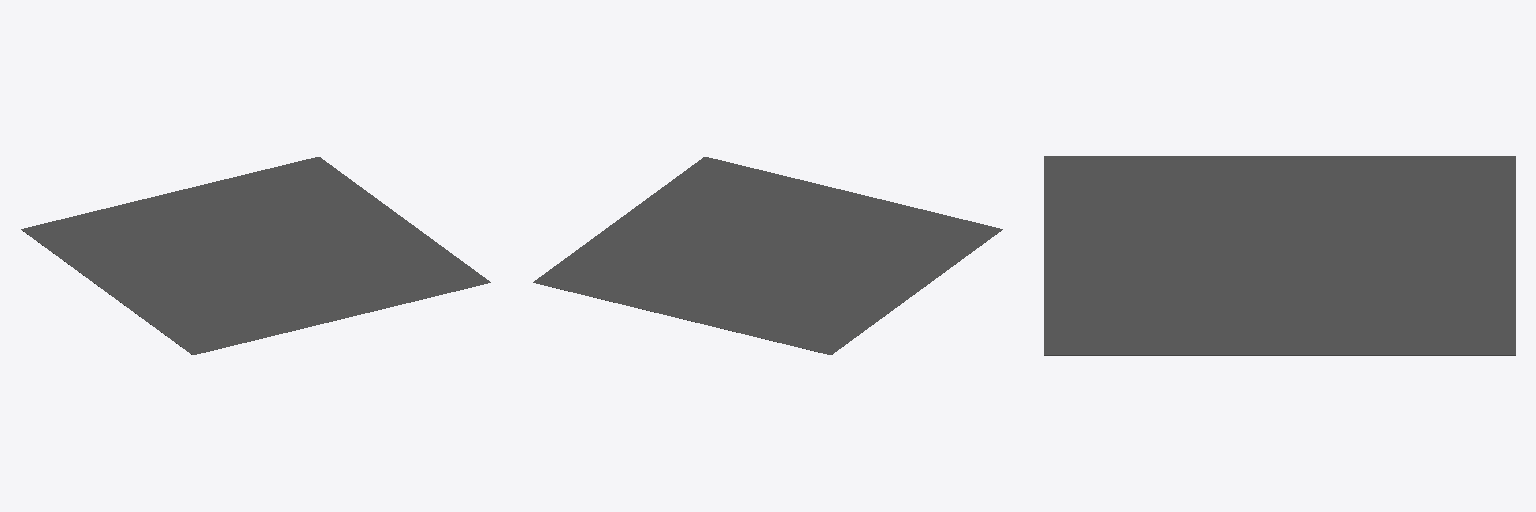
The robot description file, URDF, robot "plane_racing":
<?xml version="1.0"?> 

<!-- Copyright 2023 Shathushan Sivashangaran -->

<!-- Licensed under the Apache License, Version 2.0 (the "License"); -->
<!-- you may not use this file except in compliance with the License. -->
<!-- You may obtain a copy of the License at -->

<!--     http://www.apache.org/licenses/LICENSE-2.0 -->

<!-- Unless required by applicable law or agreed to in writing, software -->
<!-- distributed under the License is distributed on an "AS IS" BASIS, -->
<!-- WITHOUT WARRANTIES OR CONDITIONS OF ANY KIND, either express or implied. -->
<!-- See the License for the specific language governing permissions and -->
<!-- limitations under the License. -->

<!-- Authors: Shathushan Sivashangaran, Apoorva Khairnar -->

<robot name="plane_racing">
    <!-- Colors --> 
    <material name="grey"> 
        <color rgba="0.4 0.4 0.4 1"/>
    </material>
    <!-- Plane -->
    <link name="base_link">
        <visual> 
            <geometry> 
                <box size="25 25 0.01"/>
                <origin rpy="0 0 0" xyz="-10 -10 -0.005"/>
            </geometry>
            <material name="grey"/>
        </visual>
        <collision> 
             <geometry> 
                <box size="25 25 0.01"/>
                <origin rpy="0 0 0" xyz="-10 -10 -0.005"/>
            </geometry>
        </collision> 
        <inertial> 
            <mass value="0"/>
            <inertia ixx="0" ixy="0" ixz="0" iyy="0" iyz="0" izz="0"/>
        </inertial> 
        <contact> 
            <lateral_friction value="4"/>
        </contact>
    </link> 
</robot>

--- Facts derived from the render (not from the file) ---
3 views of the same robot in one strip: view 1: azimuth 30°, elevation 25°; view 2: azimuth 150°, elevation 25°; view 3: azimuth 270°, elevation 25° (orthographic).
Robot: plane_racing — 1 links, 0 joints (none); root link base_link; default pose: every joint at zero.
Visible links, largest first — view 1: base_link; view 2: base_link; view 3: base_link.
Link boxes in pixels (box(x1,y1,x2,y2)): base_link: box(21, 157, 490, 354); base_link: box(533, 157, 1002, 354); base_link: box(1044, 156, 1515, 355).
Size in the robot's own frame: 25 by 25 by 0.01 metres.
Geometry: primitives only (box / cylinder / sphere), no mesh files.
